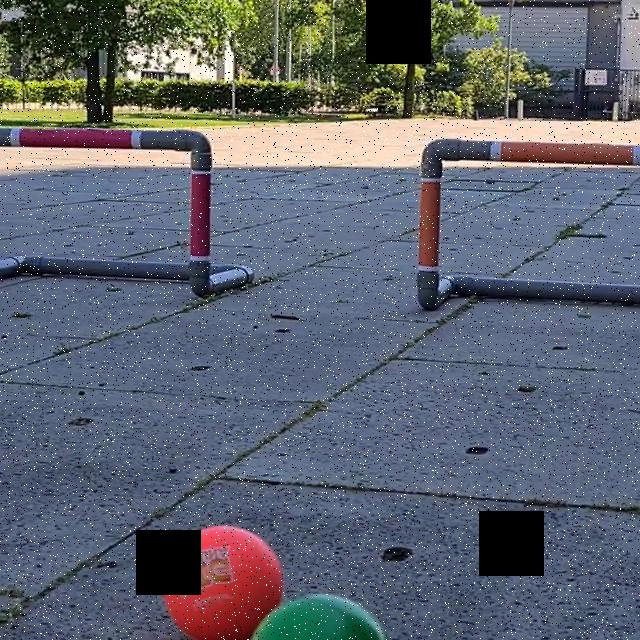ball: (250, 589, 387, 640)
